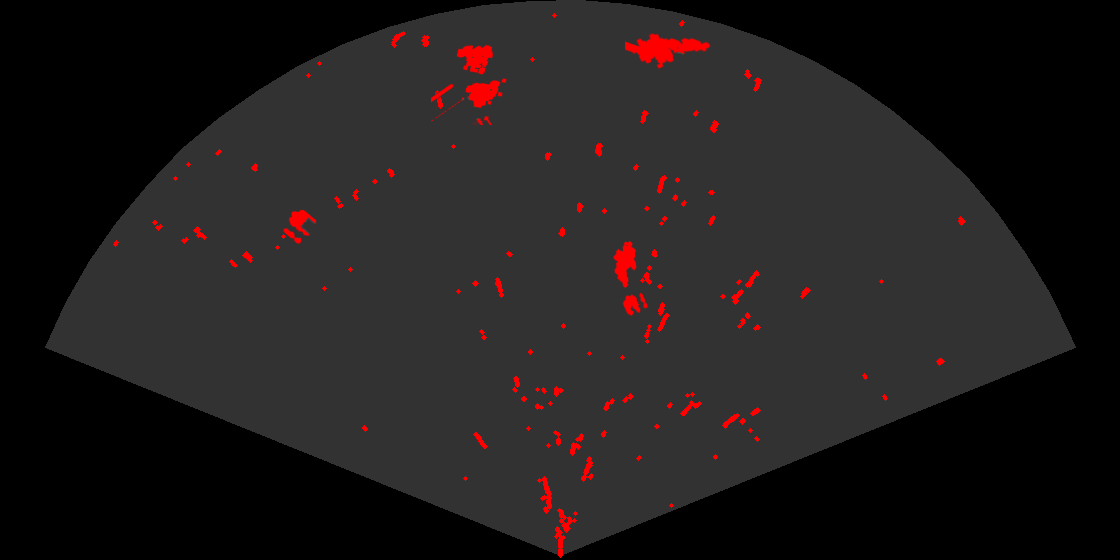AUV: (612, 239, 638, 290)
ball: (282, 208, 318, 245), (621, 291, 649, 317)
cage: (431, 43, 508, 125)
frogman: (625, 32, 712, 70)
